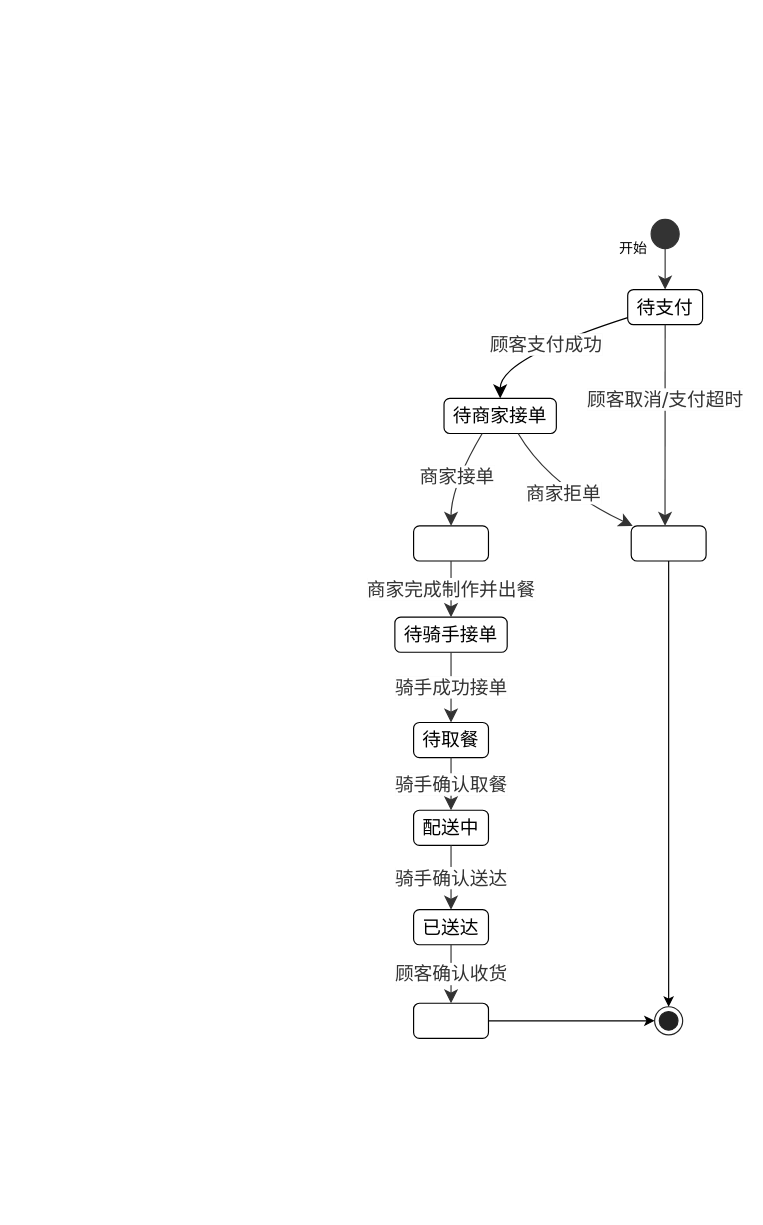
The diagram is 763 pixels wide and 1225 high, and some of its shapes have lost their labels. Here are the shapes that lost their labels. From the top down, the centre of each, then its label:
the point at 450,543: 制作中
the point at 668,543: 已取消
the point at 450,1020: 已完成
